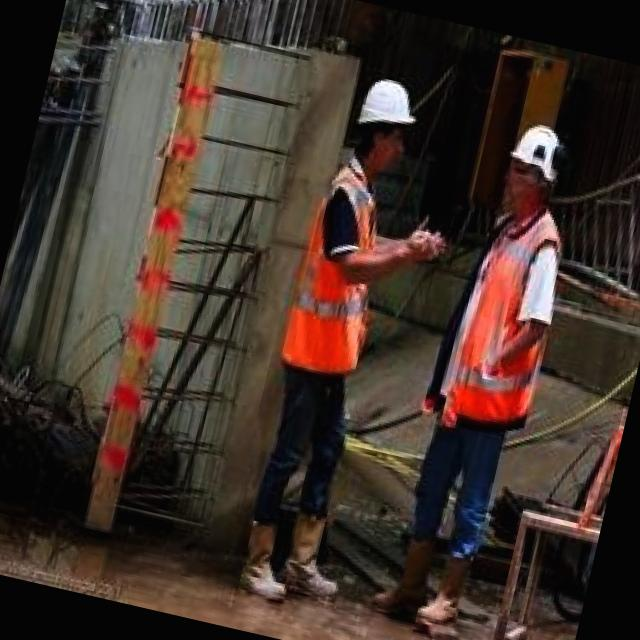vest: (412, 184, 586, 450), (266, 140, 419, 395)
